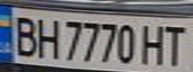0: (115, 20, 139, 65)
7: (60, 17, 84, 61), (78, 18, 100, 63), (97, 19, 118, 64)
B: (9, 12, 42, 57)
H: (139, 21, 169, 66), (33, 15, 60, 60)
T: (160, 21, 193, 66)
